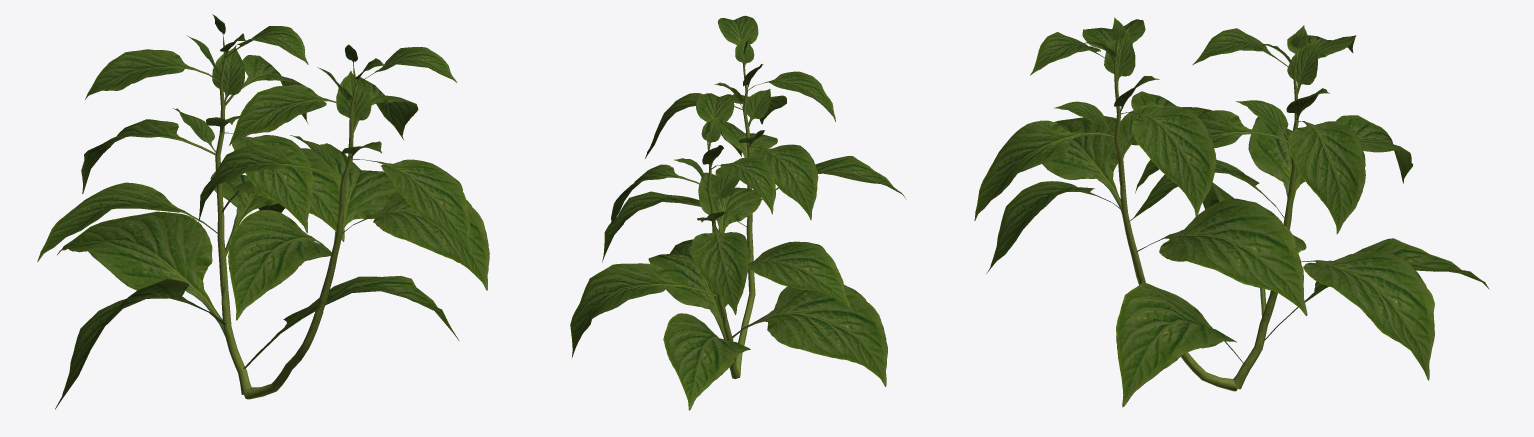
3 renders of one model, left to right at view 1: azimuth 30°, elevation 25°; view 2: azimuth 150°, elevation 25°; view 3: azimuth 270°, elevation 25°, orthographic. The views are drawn at different scales.
Parts seen in each view (by area): view 1: VG07_1; view 2: VG07_1; view 3: VG07_1.
Part boxes in pixels (bbox=[...]): VG07_1: bbox=[37, 14, 489, 409]; VG07_1: bbox=[570, 15, 906, 410]; VG07_1: bbox=[974, 17, 1489, 407].
Bounding box in the file's own units: 0.3853 × 0.3621 × 0.4726.
Materials: 2 (2 with a texture image).
